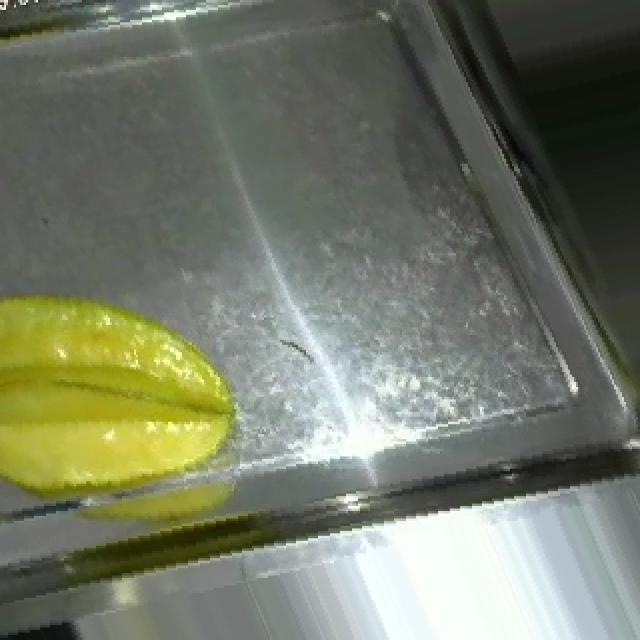fruit: (0, 260, 264, 531)
